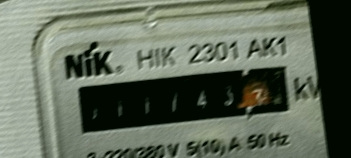0: (83, 92, 100, 121)
1: (110, 89, 127, 118), (138, 86, 154, 115)
3: (218, 79, 236, 108), (249, 85, 266, 108)
4: (193, 84, 210, 110)
7: (165, 85, 182, 112)
screen: (68, 52, 301, 145)
